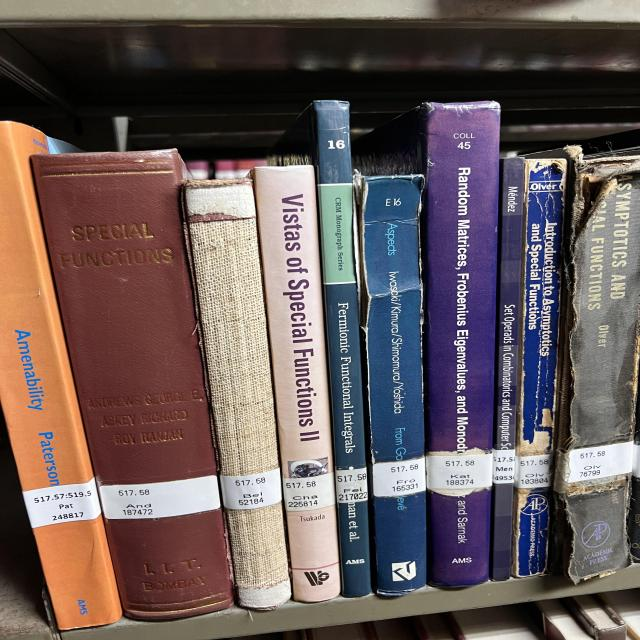Book: (32, 150, 233, 619), (353, 101, 500, 588), (0, 121, 122, 629), (270, 100, 372, 596), (183, 179, 292, 610), (253, 165, 342, 602), (553, 148, 640, 582), (360, 175, 427, 595), (512, 159, 565, 578), (490, 159, 525, 581)
Label: (98, 475, 220, 519), (23, 479, 102, 528), (567, 442, 633, 482), (220, 469, 282, 510), (427, 454, 493, 490), (372, 458, 425, 498), (283, 472, 335, 511), (513, 454, 553, 489), (335, 468, 368, 502), (492, 449, 515, 484)
